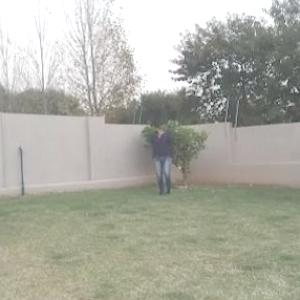follow: (153, 118, 173, 200)
